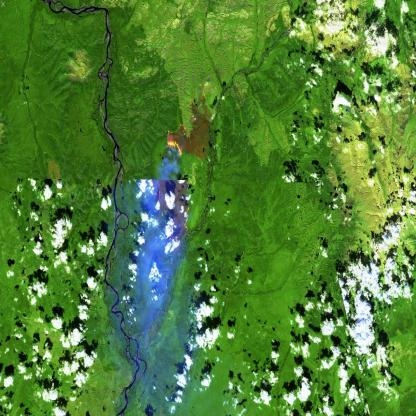fire: (164, 120, 190, 159)
